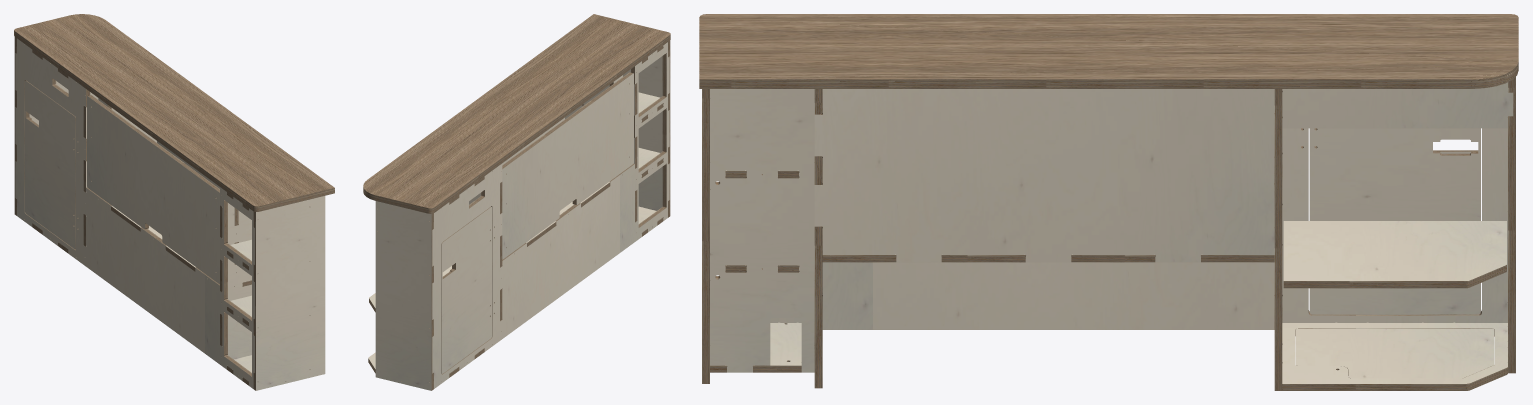
Rendered from side-cabinet-birch.glb.
3 renders of one model, left to right at view 1: azimuth 30°, elevation 25°; view 2: azimuth 150°, elevation 25°; view 3: azimuth 270°, elevation 25°, orthographic. The views are drawn at different scales.
Visible parts, largest first — view 1: Side cabinet oak top - 1561x295x20 - R15_0, B (11)_1, B (15)_1, B (1)_1, B (3)_1, B (14)_1, B (11)_0, B (1)_0, B (2)_0, B (10)_0, B (15)_0, B (14)_0 (+1 smaller); view 2: Side cabinet oak top - 1561x295x20 - R15_0, B (11)_1, B (1)_1, B (2)_1, B (3)_1, B (15)_1, B (11)_0, B (1)_0, B (2)_0, B (15)_0, B (10)_0, B (12)_0 (+1 smaller); view 3: B (8)_1, Side cabinet oak top - 1561x295x20 - R15_0, B (11)_1, B (19)_1, B (3)_1, B (6)_1, B (5)_1, B (7)_1, B (13)_1, B (12)_0, B (10)_0, B (15)_0 (+5 smaller).
Part boxes in pixels (x1,y1,x2,y2): Side cabinet oak top - 1561x295x20 - R15_0: (14, 14, 334, 211); B (11)_1: (15, 38, 254, 388); B (15)_1: (256, 196, 325, 390); B (1)_1: (87, 96, 219, 284); B (3)_1: (25, 80, 75, 249); B (14)_1: (222, 203, 251, 359); B (11)_0: (24, 63, 253, 376); B (1)_0: (88, 95, 219, 272); B (2)_0: (14, 37, 16, 215); B (10)_0: (111, 206, 251, 286); B (15)_0: (253, 207, 310, 390); B (14)_0: (220, 205, 238, 346); Side cabinet oak top - 1561x295x20 - R15_0: (363, 14, 670, 213); B (11)_1: (432, 42, 669, 388); B (1)_1: (502, 73, 633, 259); B (2)_1: (375, 201, 431, 390); B (3)_1: (442, 207, 491, 373); B (15)_1: (638, 56, 662, 210); B (11)_0: (441, 47, 666, 381); B (1)_0: (502, 72, 632, 247); B (2)_0: (377, 208, 433, 390); B (15)_0: (668, 40, 670, 217); B (10)_0: (527, 182, 610, 246); B (12)_0: (500, 182, 502, 320); B (8)_1: (814, 89, 1274, 262); Side cabinet oak top - 1561x295x20 - R15_0: (699, 14, 1518, 88); B (11)_1: (770, 128, 1507, 329); B (19)_1: (710, 89, 814, 372); B (3)_1: (1309, 128, 1480, 314); B (6)_1: (1283, 221, 1506, 280); B (5)_1: (1282, 82, 1513, 128); B (7)_1: (1296, 328, 1494, 378); B (13)_1: (1282, 322, 1507, 383); B (12)_0: (1274, 89, 1282, 390); B (10)_0: (822, 255, 1274, 262); B (15)_0: (702, 89, 709, 383).
Size of the model in its own units: 0.295 by 0.655 by 1.56.
4 materials, 4 textured.
